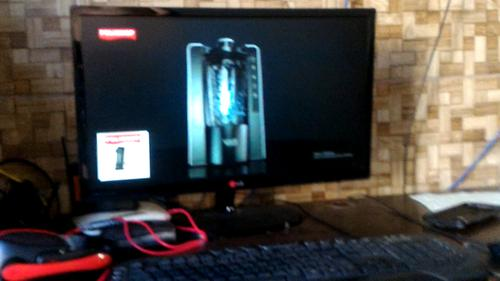Polishop #1: (96, 132, 150, 181)
